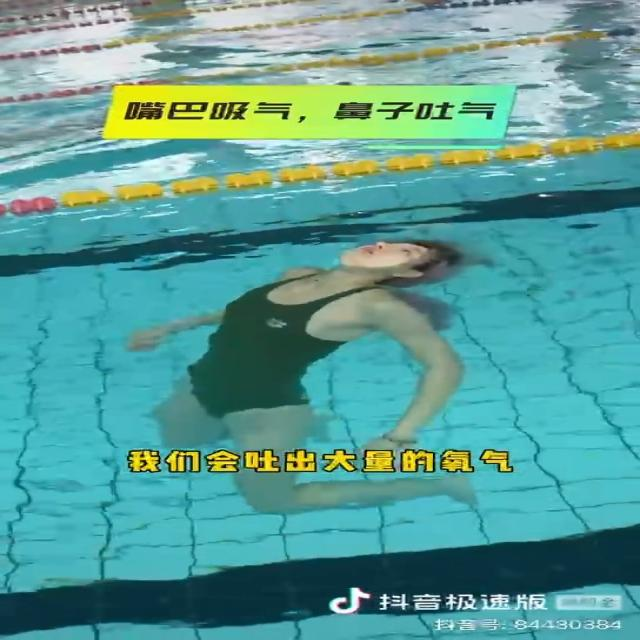Drowning: (128, 237, 482, 512)
